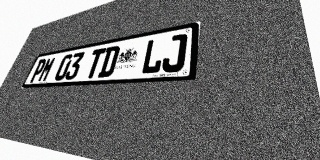0: (53, 53, 74, 81)
3: (64, 51, 85, 80)
D: (97, 45, 121, 78)
J: (161, 33, 188, 73)
L: (140, 37, 166, 74)
M: (37, 57, 57, 82)
P: (29, 58, 48, 83)
T: (83, 48, 106, 79)
